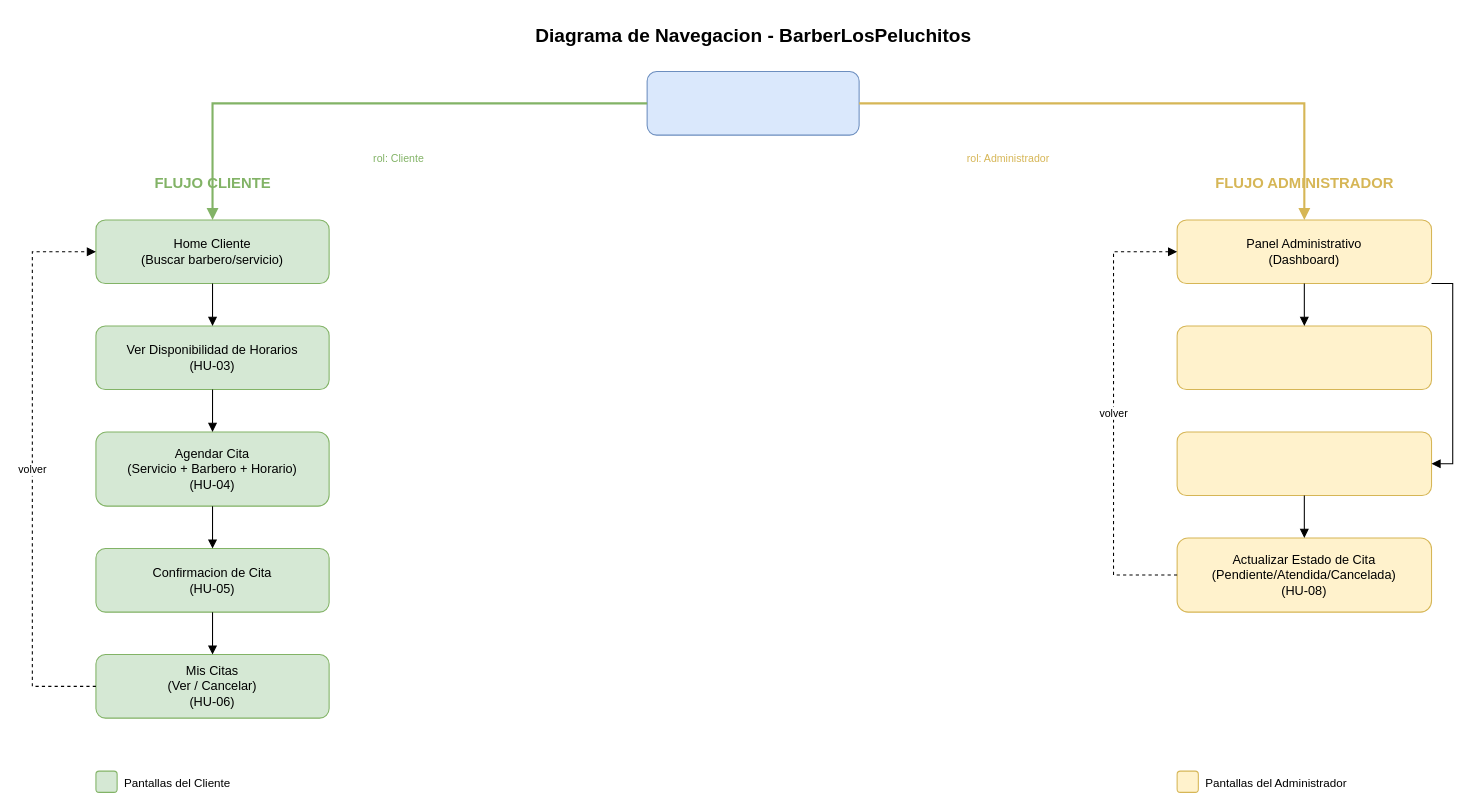
Image size: 1480x811. Some labels were removed from this diagram. Here are the shapes that lost their labels. From the top down, the centre of each, then its label:
point (752, 102): Login / Registro (HU-01)
point (1304, 357): Gestion de Barberos y Horarios (HU-02)
point (1304, 463): Listado de Citas del Dia (HU-07)
